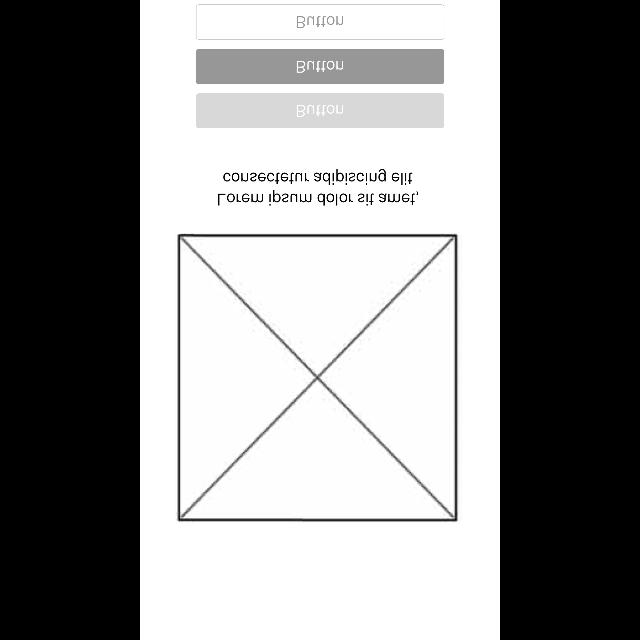image: (176, 233, 458, 522)
text: (219, 168, 419, 206)
textbutton: (196, 5, 444, 40), (196, 50, 444, 84), (196, 94, 444, 128)
